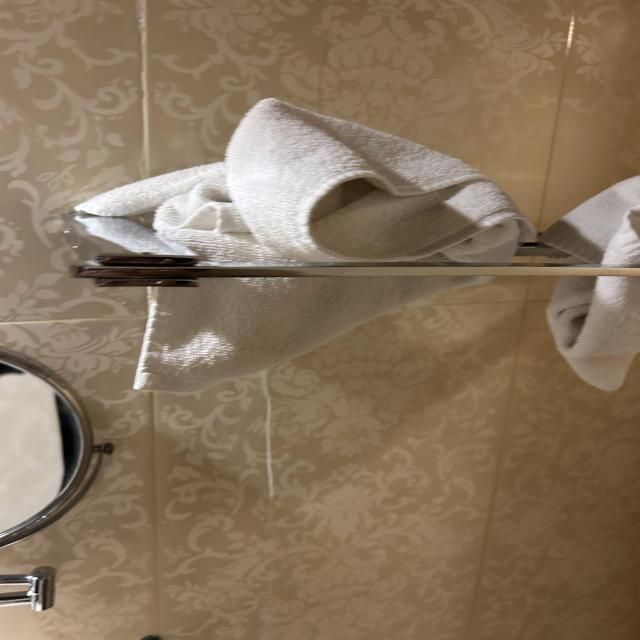mess: (6, 81, 640, 375)
